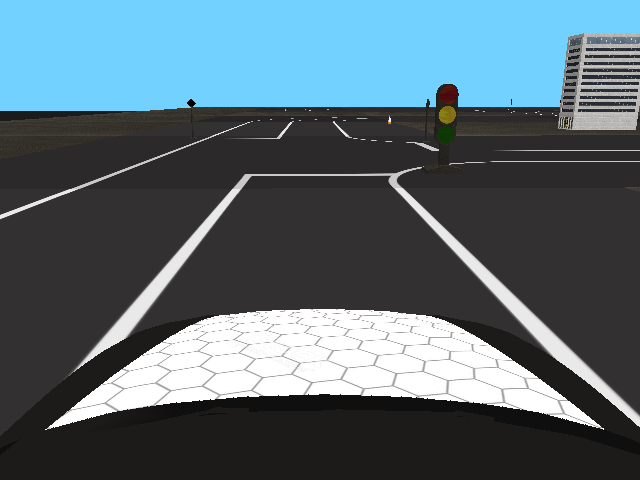yellow_light: (435, 84, 458, 144)
